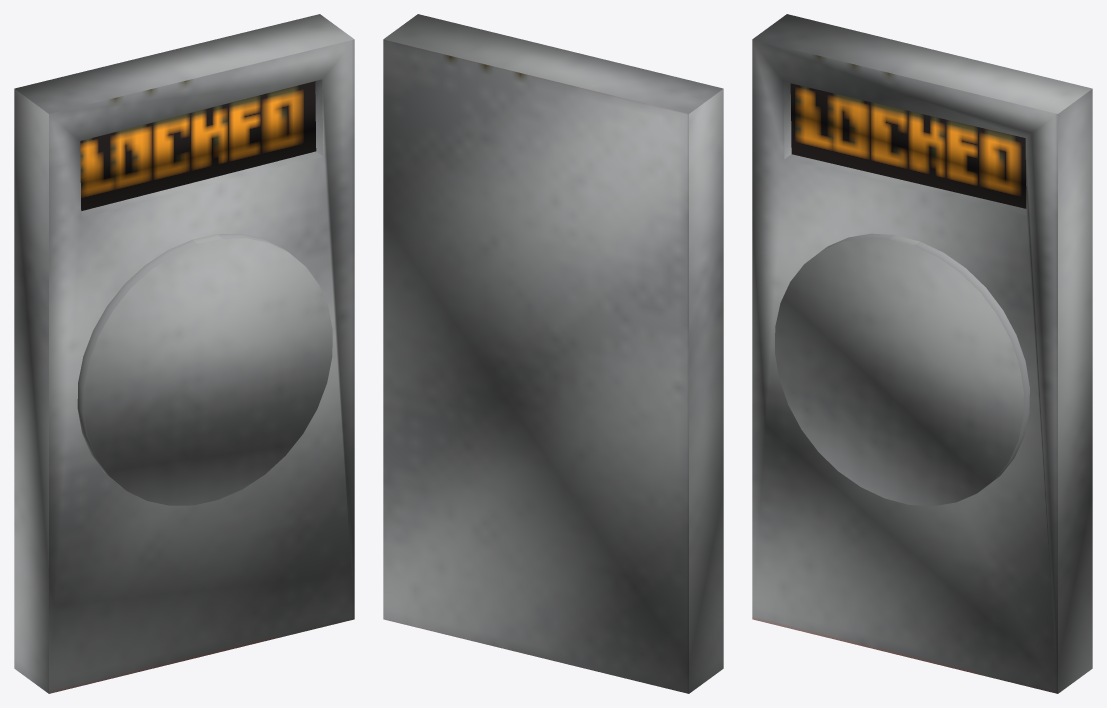
File: ElectronicDoorKey.fbx
The picture shows the model from 3 angles, left to right: view 1: azimuth 30°, elevation 25°; view 2: azimuth 150°, elevation 25°; view 3: azimuth 330°, elevation 25°; orthographic projection.
Visible parts, largest first — view 1: Box, Circle, Indicator; view 2: Box; view 3: Box, Circle, Indicator.
Part boxes in pixels (left/top/right/bottom): Box: left=14, top=14, right=354, bottom=693; Circle: left=77, top=233, right=332, bottom=505; Indicator: left=80, top=81, right=316, bottom=210; Box: left=383, top=14, right=723, bottom=693; Box: left=752, top=14, right=1092, bottom=693; Circle: left=775, top=233, right=1029, bottom=506; Indicator: left=790, top=83, right=1026, bottom=208.
Size of the model in its own units: 27.85 by 50.46 by 6.44.
